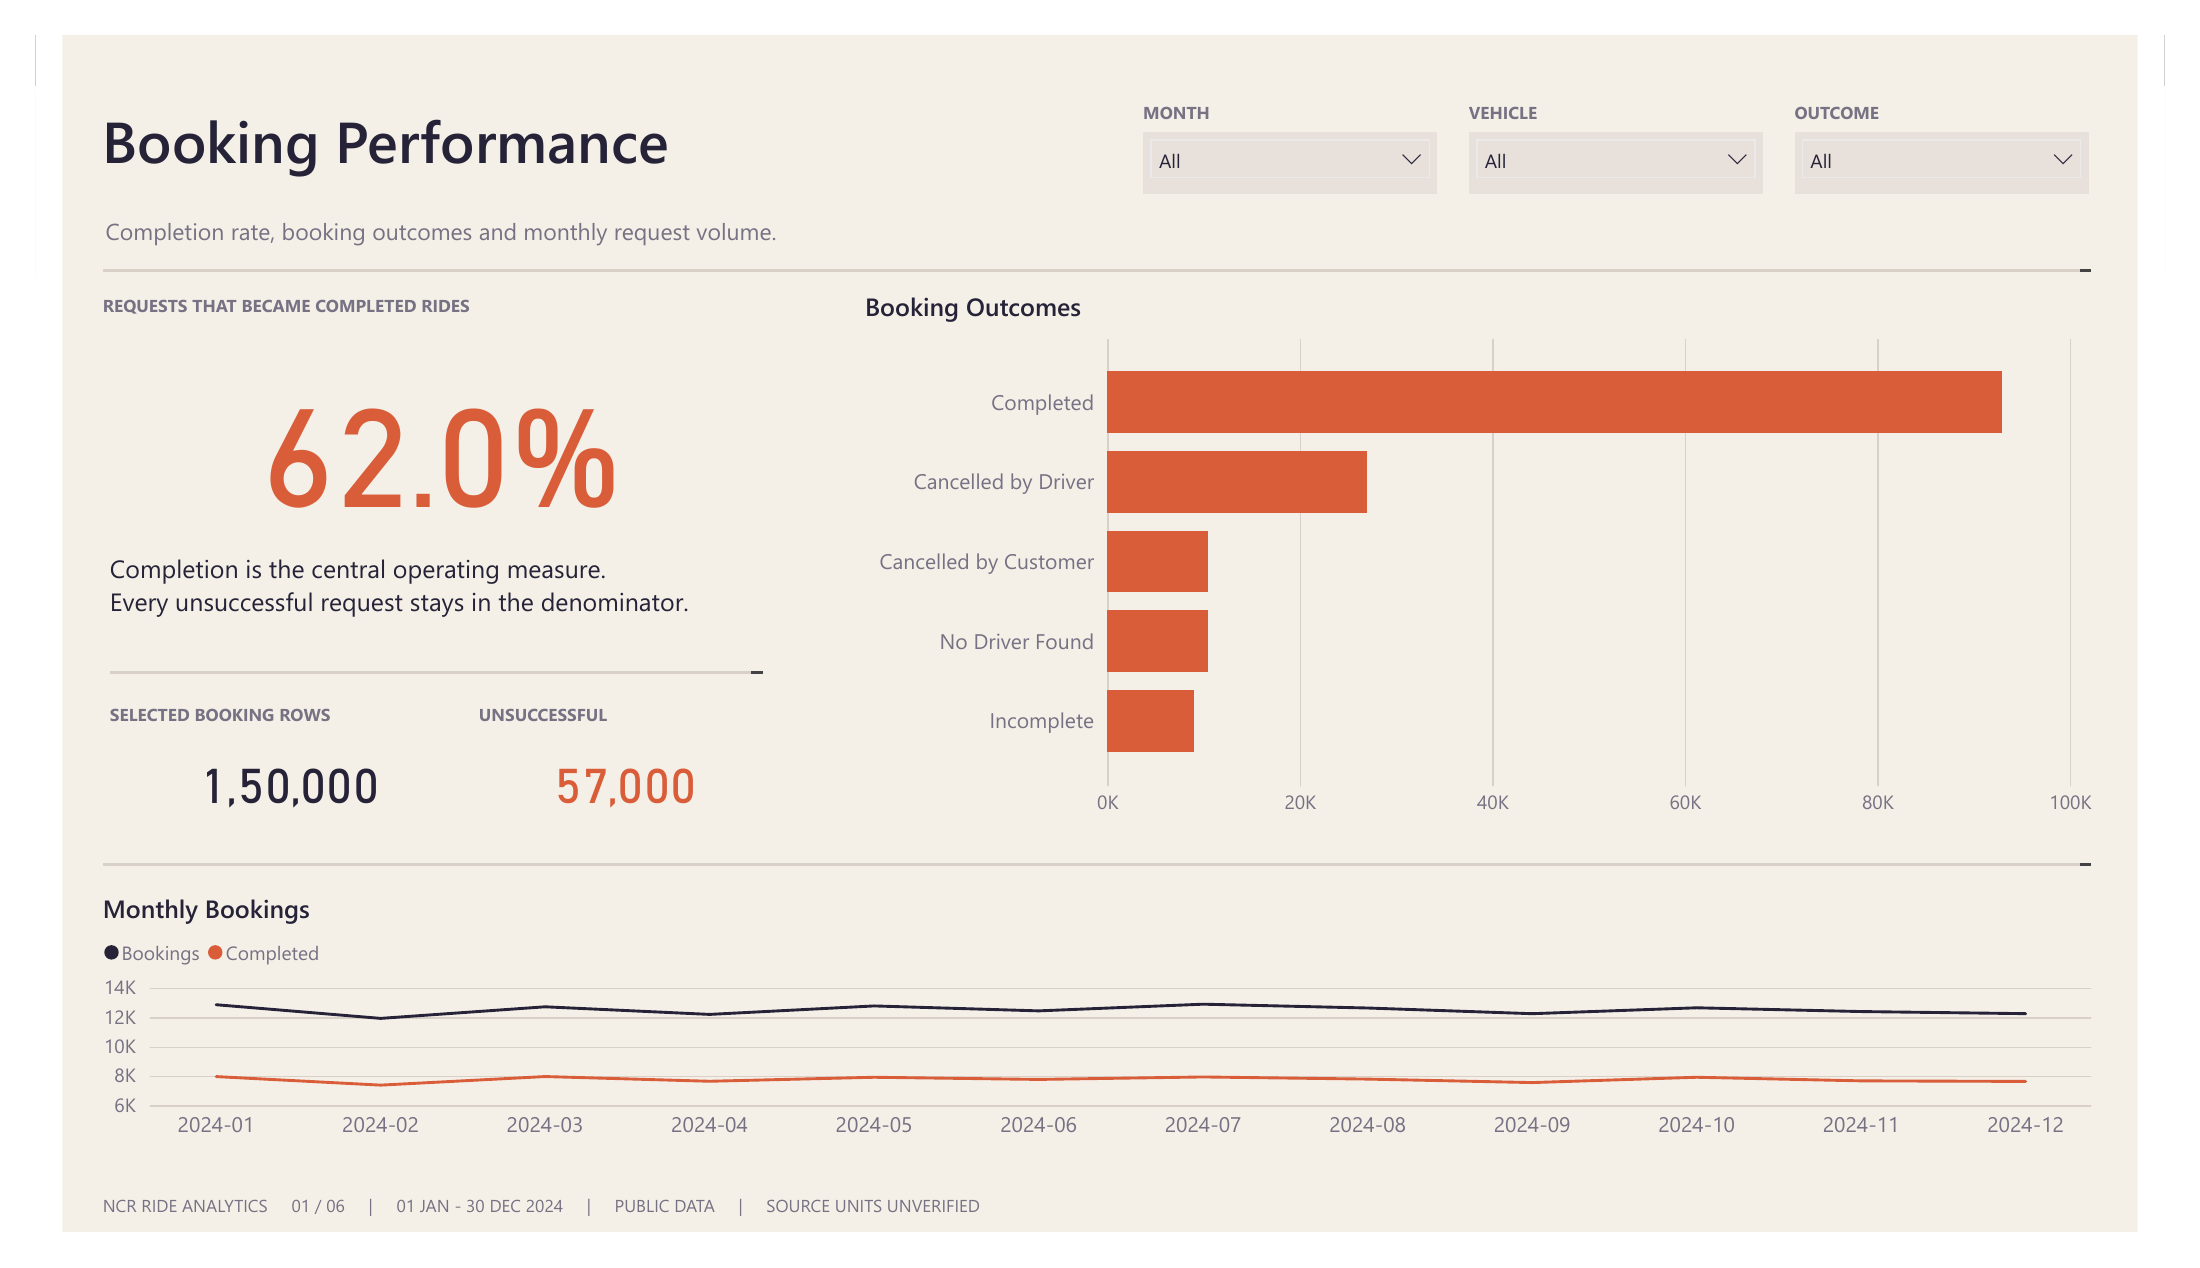

What the dashboard file says about the page in this screenshot:
{"tool":"powerbi","page":{"name":"01 / Performance","canvas":[1440,810],"ordinal":0},"visuals":[{"type":"textbox","box":[28,26,680,62],"z":0},{"type":"textbox","box":[750,23,204,20],"z":1},{"type":"slicer","fields":{"Values":["Calendar.month"]},"box":[750,47,204,43],"z":2},{"type":"textbox","box":[976,23,204,20],"z":3},{"type":"slicer","fields":{"Values":["Vehicle.vehicle_type"]},"box":[976,47,204,43],"z":4},{"type":"textbox","box":[1202,23,204,20],"z":5},{"type":"slicer","fields":{"Values":["Status.status"]},"box":[1202,47,204,43],"z":6},{"type":"textbox","box":[30,105,1376,32],"z":7},{"type":"textbox","box":[28,142,1380,2],"z":8},{"type":"textbox","box":[28,782,1380,24],"z":9},{"type":"textbox","box":[28,157,487.9,25],"z":10},{"type":"card","fields":{"Values":["Bookings.Completion Rate"]},"box":[18.7,187,487.9,142],"z":11},{"type":"textbox","box":[32.6,338,478.6,67],"z":12},{"type":"textbox","box":[32.6,421,453,2],"z":13},{"type":"textbox","box":[32.6,441,220.7,25],"z":14},{"type":"card","fields":{"Values":["Bookings.Bookings"]},"box":[30.3,467,255.6,63],"z":15},{"type":"textbox","box":[289.4,441,197.5,25],"z":16},{"type":"card","fields":{"Values":["Bookings.Unsuccessful"]},"box":[280.1,467,220.7,63],"z":17},{"type":"barChart","title":"Booking Outcomes","fields":{"Category":["Status.status"],"Y":["Bookings.Bookings"]},"box":[556.5,156,851.5,371],"z":18},{"type":"textbox","box":[28,554,1380,2],"z":19},{"type":"lineChart","title":"Monthly Bookings","fields":{"Category":["Calendar.month"],"Y":["Bookings.Bookings","Bookings.Completed"]},"box":[28,574,1380,177],"z":20}]}

Visuals, with their boxes in screenshot pixels (x1, y1, x2, y2), scaled from the page's 1440x810 canvas onto the 2200x1268 screenshot:
textbox: (43,41,1082,138)
textbox: (1146,36,1458,67)
slicer - Calendar.month: (1146,74,1458,141)
textbox: (1491,36,1803,67)
slicer - Vehicle.vehicle_type: (1491,74,1803,141)
textbox: (1836,36,2148,67)
slicer - Status.status: (1836,74,2148,141)
textbox: (46,164,2148,214)
textbox: (43,222,2151,225)
textbox: (43,1224,2151,1262)
textbox: (43,246,788,285)
card - Bookings.Completion Rate: (29,293,774,515)
textbox: (50,529,781,634)
textbox: (50,659,742,662)
textbox: (50,690,387,729)
card - Bookings.Bookings: (46,731,437,830)
textbox: (442,690,744,729)
card - Bookings.Unsuccessful: (428,731,765,830)
"Booking Outcomes" barChart: (850,244,2151,825)
textbox: (43,867,2151,870)
"Monthly Bookings" lineChart: (43,899,2151,1176)
